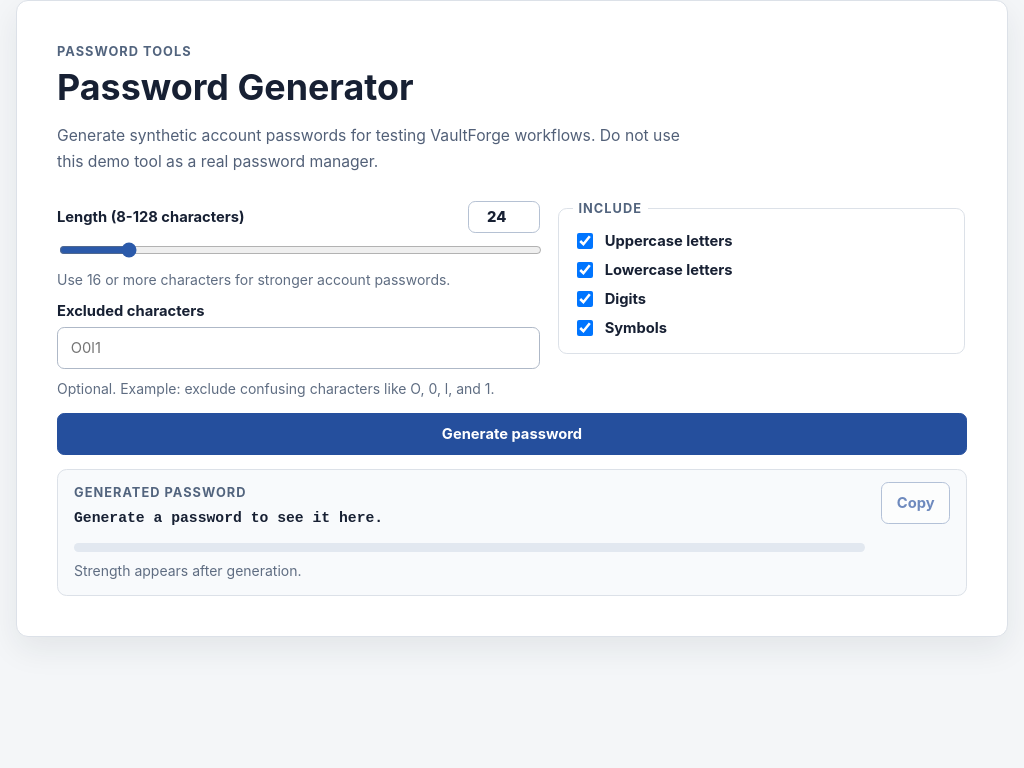
Scenario: PasswordGeneratorPage › requires at least one character set
Click the checkbox labelled "Uppercase letters".
click(585, 241)  # box [577, 233, 593, 249]
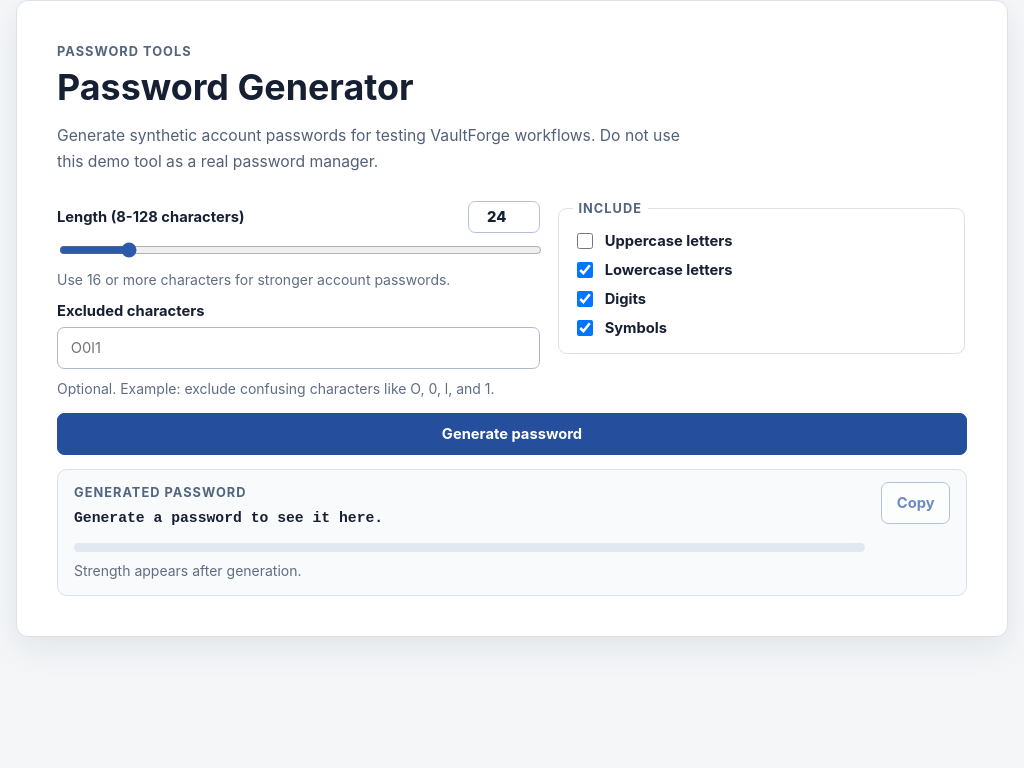
Click the checkbox labelled "Lowercase letters".
click(585, 270)  # box [577, 262, 593, 278]
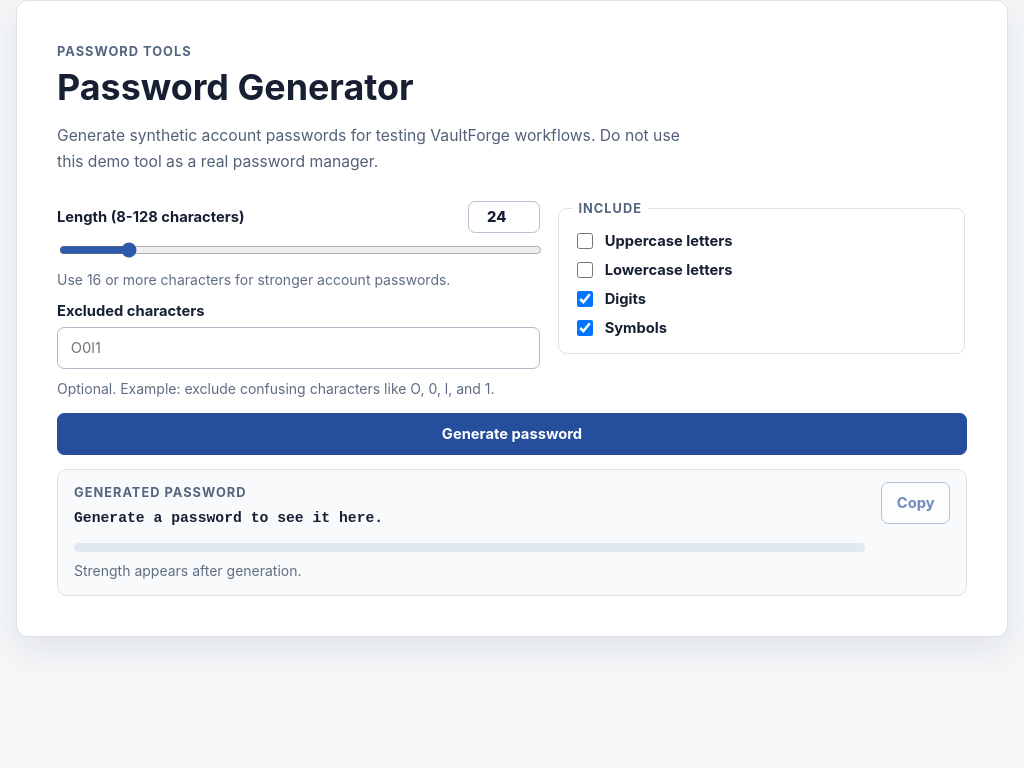
Click the checkbox labelled "Digits".
click(585, 299)  # box [577, 291, 593, 307]
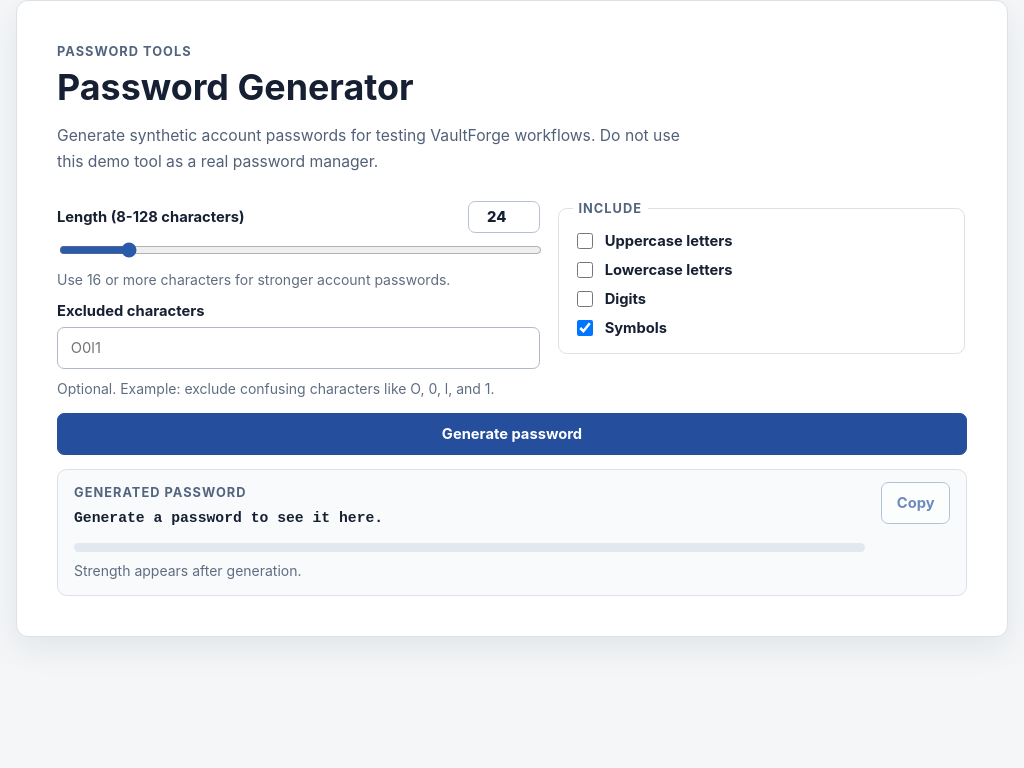
Click the checkbox labelled "Symbols".
click(585, 328)  # box [577, 320, 593, 336]
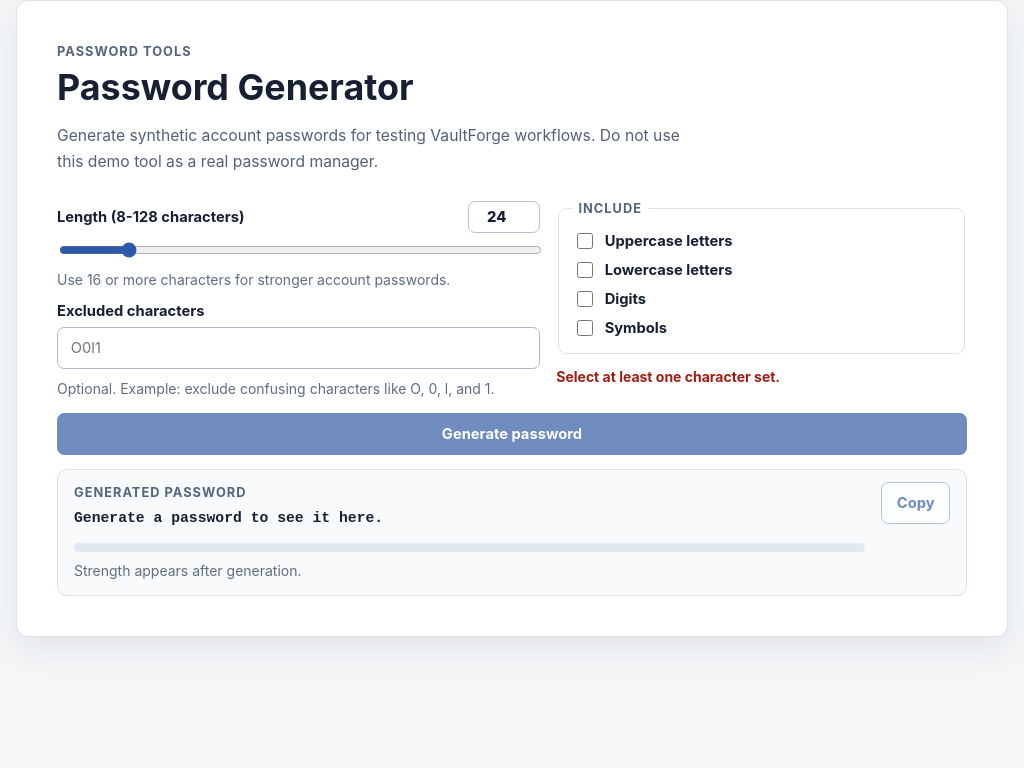
Now the text "Select at least one character set." is shown, box [556, 368, 780, 385]
Now the button "Generate password" is disabled, box [57, 413, 967, 455]
